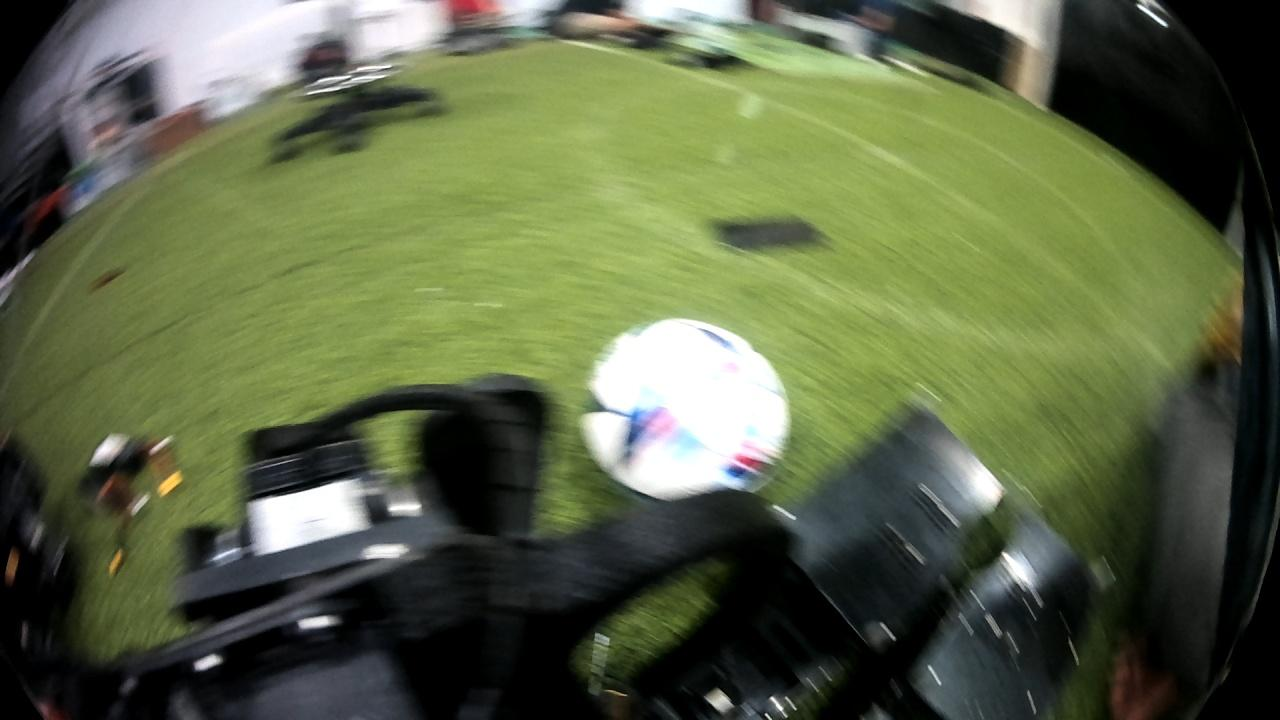ball: (583, 303, 797, 504)
